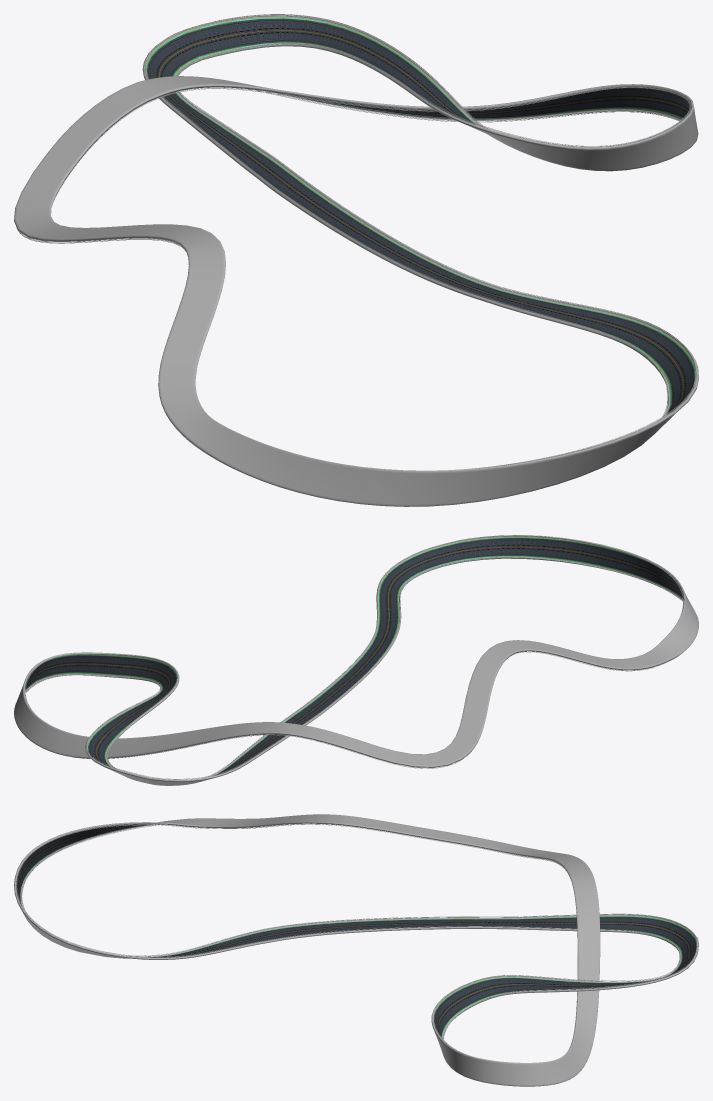
File: Test_Track.fbx
3 views of the same model, one above another, from view 1: azimuth 30°, elevation 25°; view 2: azimuth 150°, elevation 25°; view 3: azimuth 270°, elevation 25° (orthographic). The views are drawn at different scales.
Visible parts, largest first — view 1: Test_Track; view 2: Test_Track; view 3: Test_Track.
Boxes of the visible parts, x1,y1,x2,y2 form: Test_Track: (14, 14, 698, 506); Test_Track: (14, 535, 698, 785); Test_Track: (14, 814, 698, 1086).
Bounding box in the file's own units: 325 × 59.32 × 404.
